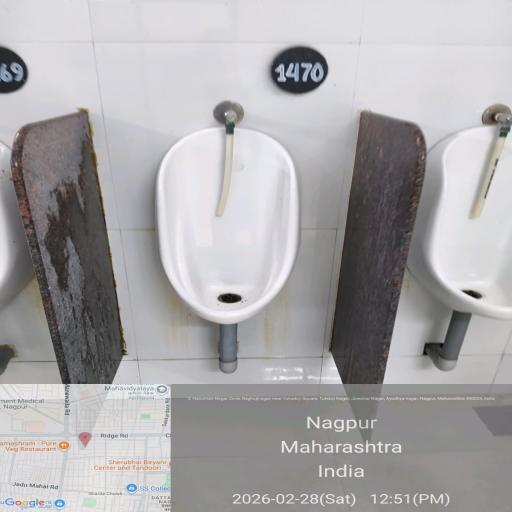clean_floor: (6, 4, 444, 124), (23, 118, 150, 360), (301, 119, 409, 377)
clean_urinal: (150, 140, 286, 313)
partial_dirty_floor: (158, 294, 308, 363)
